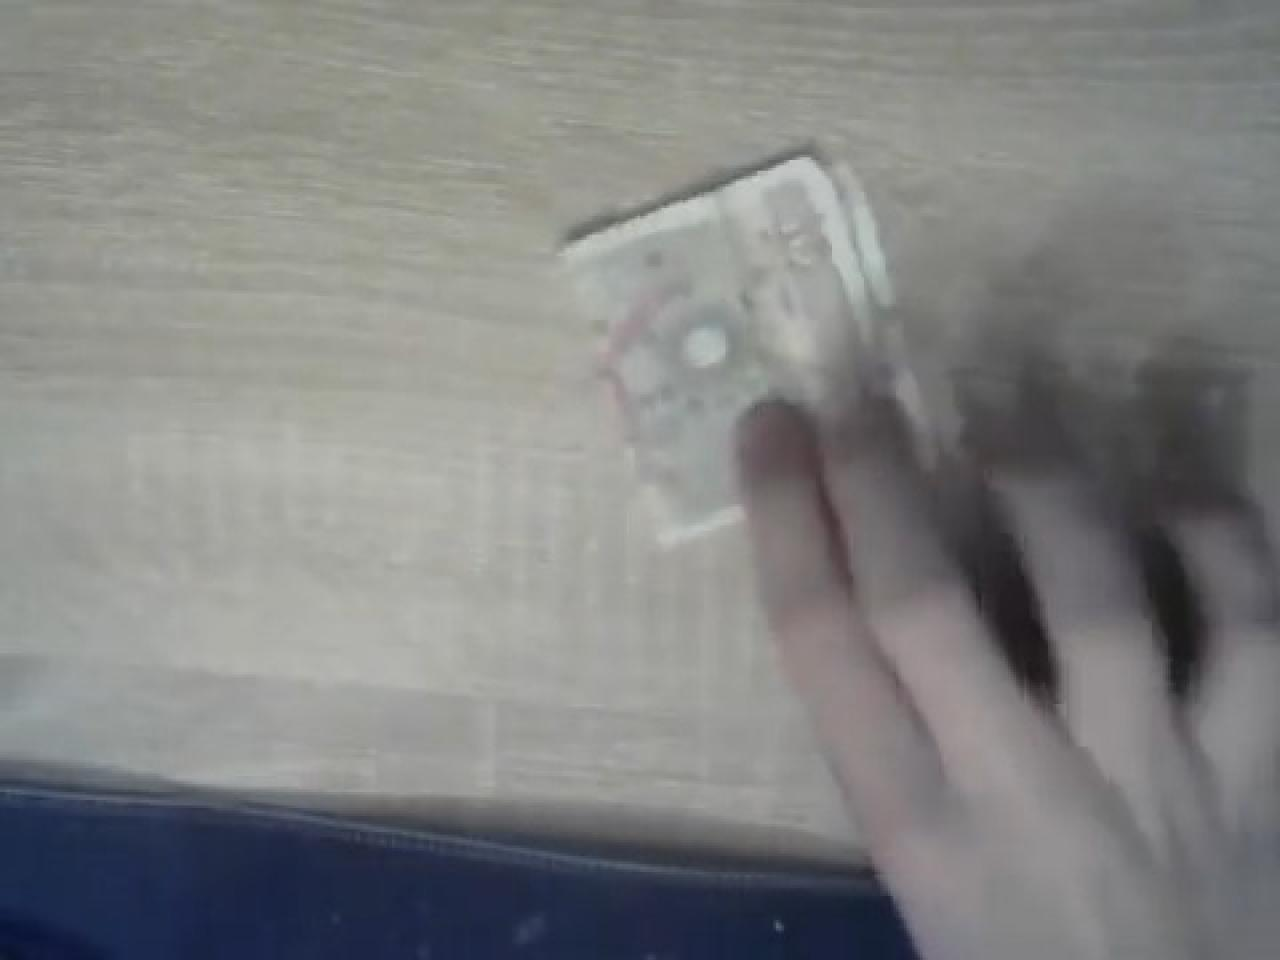10leva: (554, 152, 912, 555)
